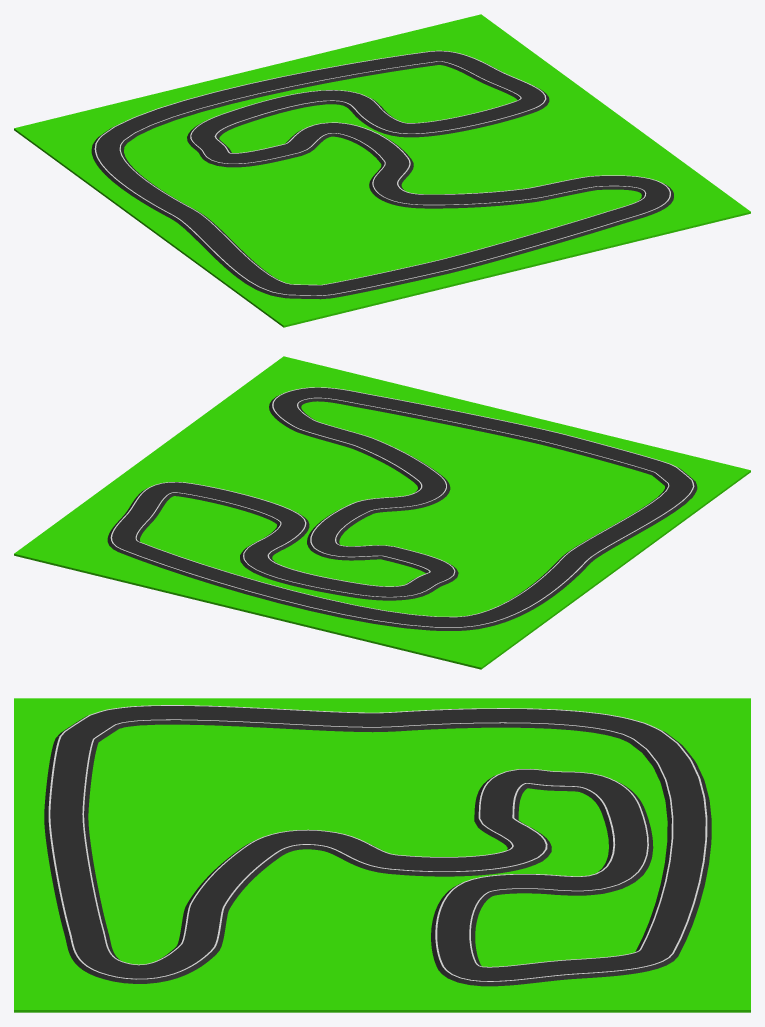
Rendered from track.fbx.
3 views of the same model, one above another, from view 1: azimuth 30°, elevation 25°; view 2: azimuth 150°, elevation 25°; view 3: azimuth 270°, elevation 25° (orthographic). The views are drawn at different scales.
Visible parts, largest first — view 1: Cube, Куб; view 2: Cube, Куб; view 3: Cube, Куб.
Boxes of the visible parts, x1,y1,x2,y2 form: Cube: [14, 14, 750, 327]; Куб: [91, 50, 673, 299]; Cube: [14, 356, 750, 669]; Куб: [107, 387, 697, 630]; Cube: [14, 698, 750, 1012]; Куб: [44, 705, 711, 986].
Bounding box in the file's own units: 10000 × 100 × 10000.
